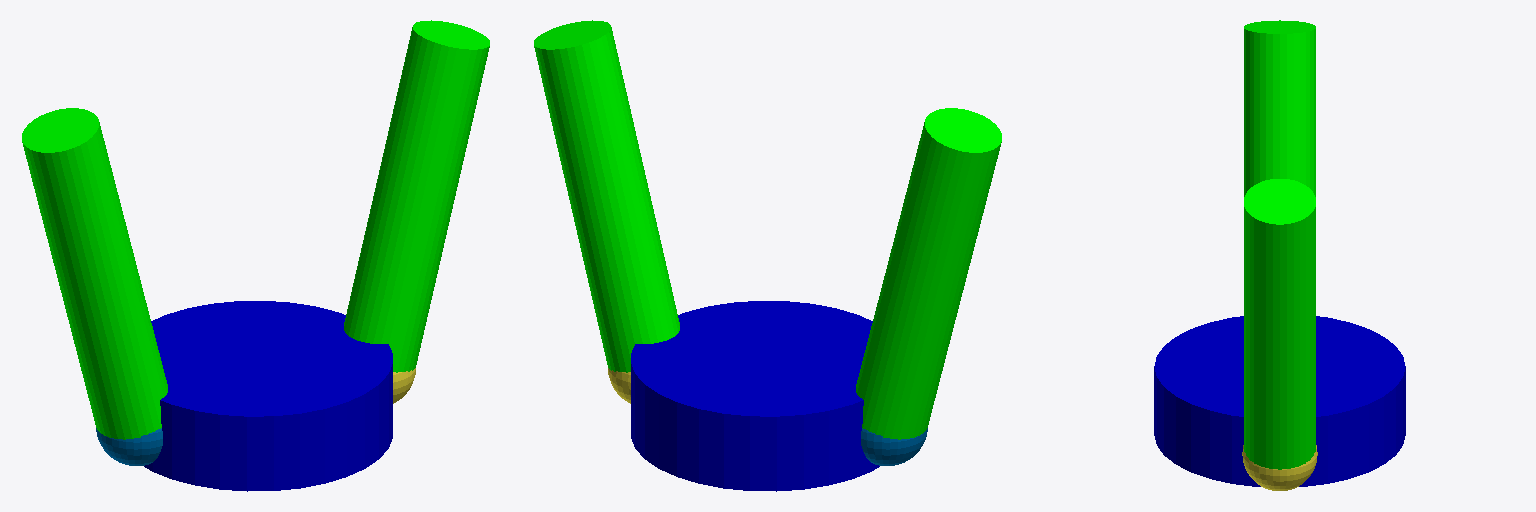
URDF robot description (gripper_2f_1j):
<?xml version='1.0' encoding='UTF-8'?>
<robot name="gripper_2f_1j">
  <link name="palm">
    <inertial>
      <origin xyz="0.0 0.0 0.0" rpy="0.0 -0.0 0.0"/>
      <mass value="1.0"/>
      <inertia ixx="1.0" ixy="0.0" ixz="0.0" iyy="1.0" iyz="0.0" izz="1.0"/>
    </inertial>
    <visual>
      <geometry>
        <cylinder radius="0.05" length="0.03"/>
      </geometry>
      <material name="blue"/>
      <origin xyz="0.0 0.0 0.0" rpy="0.0 -0.0 0.0"/>
    </visual>
    <collision>
      <geometry>
        <cylinder radius="0.05" length="0.03"/>
      </geometry>
      <origin xyz="0.0 0.0 0.0" rpy="0.0 0.0 0.0"/>
    </collision>
  </link>
  <link name="f11">
    <inertial>
      <origin xyz="0.0 0.0 0.0" rpy="0.0 -0.0 0.0"/>
      <mass value="1.0"/>
      <inertia ixx="1.0" ixy="0.0" ixz="0.0" iyy="1.0" iyz="0.0" izz="1.0"/>
    </inertial>
    <visual>
      <geometry>
        <cylinder radius="0.014503529315588761" length="0.1297143568853388"/>
      </geometry>
      <material name="green"/>
      <origin xyz="0.0 0.0 0.0648571784426694" rpy="0.0 -0.0 0.0"/>
    </visual>
    <collision>
      <geometry>
        <cylinder radius="0.014503529315588761" length="0.1297143568853388"/>
      </geometry>
      <origin xyz="0.0 0.0 0.05" rpy="0.0 0.0 0.0"/>
    </collision>
  </link>
  <link name="f21">
    <inertial>
      <origin xyz="0.0 0.0 0.0" rpy="0.0 -0.0 0.0"/>
      <mass value="1.0"/>
      <inertia ixx="1.0" ixy="0.0" ixz="0.0" iyy="1.0" iyz="0.0" izz="1.0"/>
    </inertial>
    <visual>
      <geometry>
        <cylinder radius="0.014503529315588761" length="0.1297143568853388"/>
      </geometry>
      <material name="green"/>
      <origin xyz="0.0 0.0 0.0648571784426694" rpy="0.0 -0.0 0.0"/>
    </visual>
    <collision>
      <geometry>
        <cylinder radius="0.014503529315588761" length="0.1297143568853388"/>
      </geometry>
      <origin xyz="0.0 0.0 0.05" rpy="0.0 0.0 0.0"/>
    </collision>
  </link>
  <link name="f11_base">
    <inertial>
      <origin xyz="0.0 0.0 0.0" rpy="0.0 -0.0 0.0"/>
      <mass value="1.0"/>
      <inertia ixx="1.0" ixy="0.0" ixz="0.0" iyy="1.0" iyz="0.0" izz="1.0"/>
    </inertial>
    <visual>
      <geometry>
        <sphere radius="0.015"/>
      </geometry>
      <origin xyz="0.0 0.0 0.0" rpy="0.0 -0.0 0.0"/>
    </visual>
  </link>
  <link name="f21_base">
    <inertial>
      <origin xyz="0.0 0.0 0.0" rpy="0.0 -0.0 0.0"/>
      <mass value="1.0"/>
      <inertia ixx="1.0" ixy="0.0" ixz="0.0" iyy="1.0" iyz="0.0" izz="1.0"/>
    </inertial>
    <visual>
      <geometry>
        <sphere radius="0.015"/>
      </geometry>
      <origin xyz="0.0 0.0 0.0" rpy="0.0 -0.0 0.0"/>
    </visual>
  </link>
  <joint name="f11_joint" type="revolute">
    <dynamics damping="100.0" friction="1.0"/>
    <limit effort="30.0" velocity="2.0" lower="-0.6" upper="0.25"/>
    <parent link="f11_base"/>
    <child link="f11"/>
    <axis xyz="0. 1. 0."/>
    <origin xyz="0.0 0.0 0.0" rpy="0.0 0.25 0.0"/>
  </joint>
  <joint name="f21_joint" type="revolute">
    <dynamics damping="100.0" friction="1.0"/>
    <limit effort="30.0" velocity="2.0" lower="-0.6" upper="0.25"/>
    <parent link="f21_base"/>
    <child link="f21"/>
    <axis xyz=" 0. -1.  0."/>
    <origin xyz="0.0 0.0 0.0" rpy="0.0 -0.25 0.0"/>
  </joint>
  <joint name="f11_base_joint" type="fixed">
    <parent link="palm"/>
    <child link="f11_base"/>
    <axis xyz="1. 0. 0."/>
    <origin xyz="0.05 0.0 0.0" rpy="0.0 0.0 0.0"/>
  </joint>
  <joint name="f21_base_joint" type="fixed">
    <parent link="palm"/>
    <child link="f21_base"/>
    <axis xyz="1. 0. 0."/>
    <origin xyz="-0.05 -0.0 0.0" rpy="0.0 0.0 0.0"/>
  </joint>
  <material name="blue">
    <color rgba="0.  0.  0.8 1. "/>
  </material>
  <material name="green">
    <color rgba="0. 1. 0. 1."/>
  </material>
</robot>

--- What the picture shows (computed from the rendered views, not written in the file) ---
The picture shows the robot from 3 angles, left to right: view 1: azimuth 30°, elevation 25°; view 2: azimuth 150°, elevation 25°; view 3: azimuth 270°, elevation 25°; orthographic projection.
Robot: gripper_2f_1j — 5 links, 4 joints (2 revolute, 2 fixed); root link palm; default pose: all joints at 0.
Visible links, largest first — view 1: palm, f11, f21, f21_base; view 2: palm, f11, f21, f21_base; view 3: palm, f11, f21, f11_base.
Boxes of the visible links, x1,y1,x2,y2 form: palm: [144, 301, 392, 491]; f11: [344, 20, 489, 372]; f21: [22, 108, 167, 439]; f21_base: [96, 428, 162, 465]; palm: [631, 301, 879, 491]; f11: [534, 20, 679, 372]; f21: [856, 108, 1001, 439]; f21_base: [861, 428, 927, 465]; palm: [1154, 316, 1405, 486]; f11: [1244, 179, 1315, 469]; f21: [1244, 20, 1315, 196]; f11_base: [1242, 445, 1317, 490].
Bounding box of the posed robot: 0.1923 × 0.1 × 0.1443 m (x, y, z).
Geometry: primitives only (box / cylinder / sphere), no mesh files.